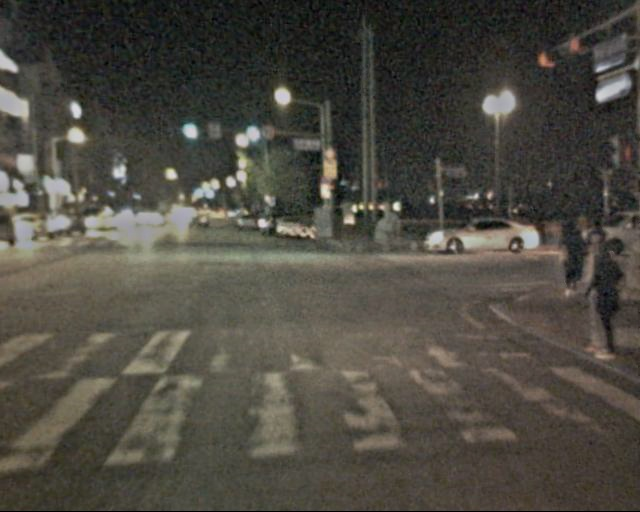person: (574, 239, 627, 356), (552, 215, 587, 299), (580, 218, 613, 296)
